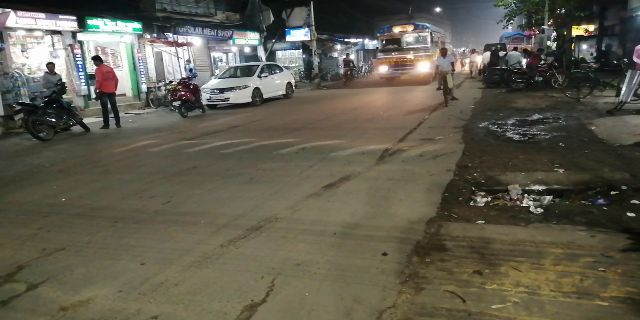Bus: (372, 21, 439, 87)
Car: (200, 60, 296, 107)
Cycle: (435, 47, 457, 109)
Motorbike: (15, 88, 92, 146), (167, 64, 207, 120)
